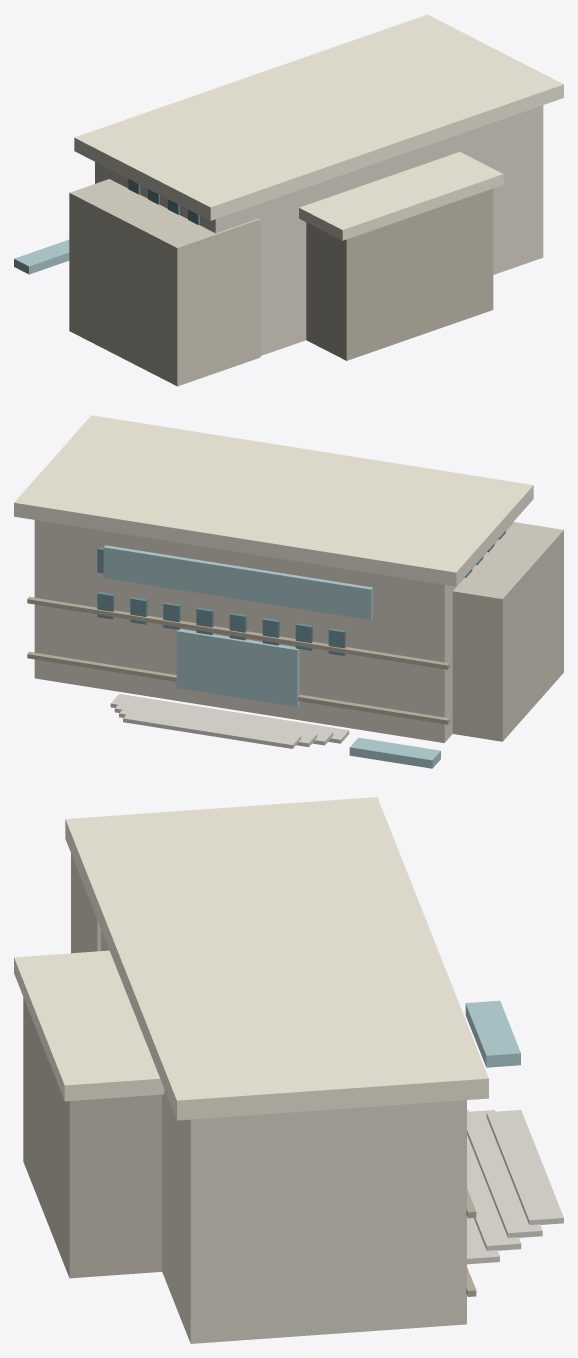
The model's file is songam-overview.glb.
The picture shows the model from 3 angles, top to bottom: view 1: azimuth 30°, elevation 25°; view 2: azimuth 150°, elevation 25°; view 3: azimuth 270°, elevation 25°; orthographic projection. The views are drawn at different scales.
Bounding box in the file's own units: 26.33 × 9.73 × 19.03.
